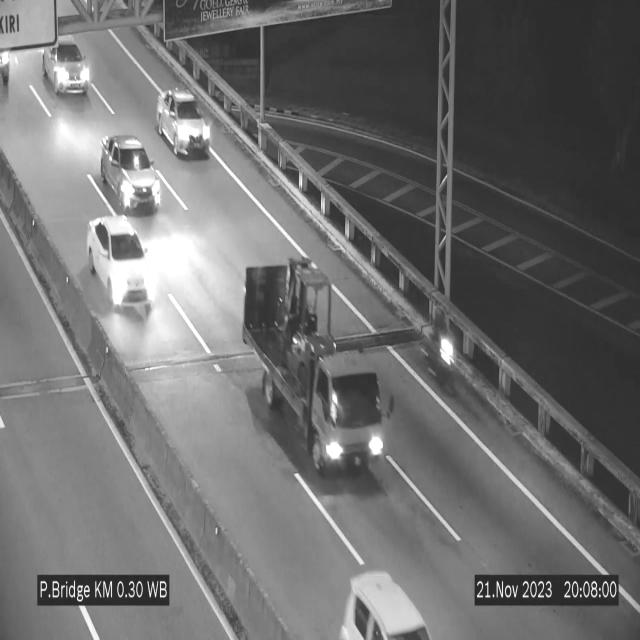Car: (327, 559, 437, 640), (87, 215, 153, 317), (101, 135, 161, 213), (41, 29, 95, 99), (155, 89, 211, 156)
Motorcycle: (428, 307, 457, 393)
Truck: (244, 261, 386, 471)
